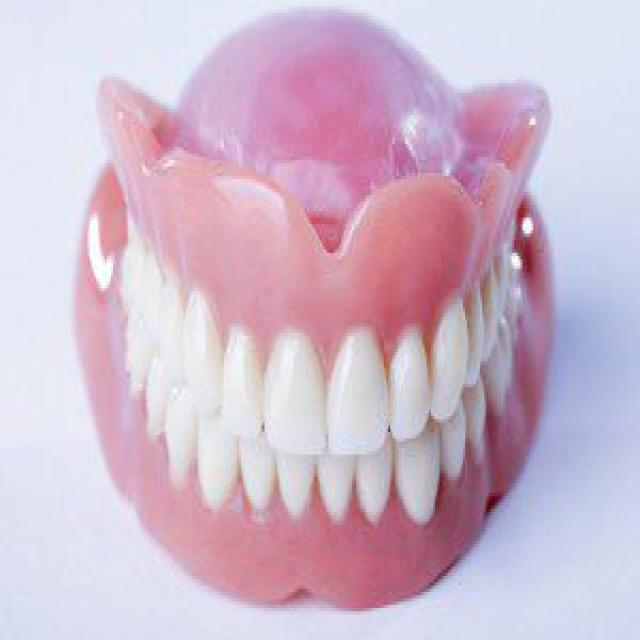tooth: (324, 336, 384, 445), (269, 336, 324, 438), (384, 336, 427, 435), (429, 301, 465, 416), (271, 442, 320, 518), (198, 422, 244, 500), (168, 381, 200, 493), (136, 365, 184, 438), (320, 452, 361, 518), (185, 307, 218, 387), (403, 435, 438, 509), (361, 451, 403, 509), (224, 336, 252, 422), (119, 310, 158, 365), (243, 442, 271, 499), (156, 307, 186, 349), (493, 355, 512, 413), (465, 301, 482, 365), (482, 288, 495, 365), (450, 426, 463, 474)
